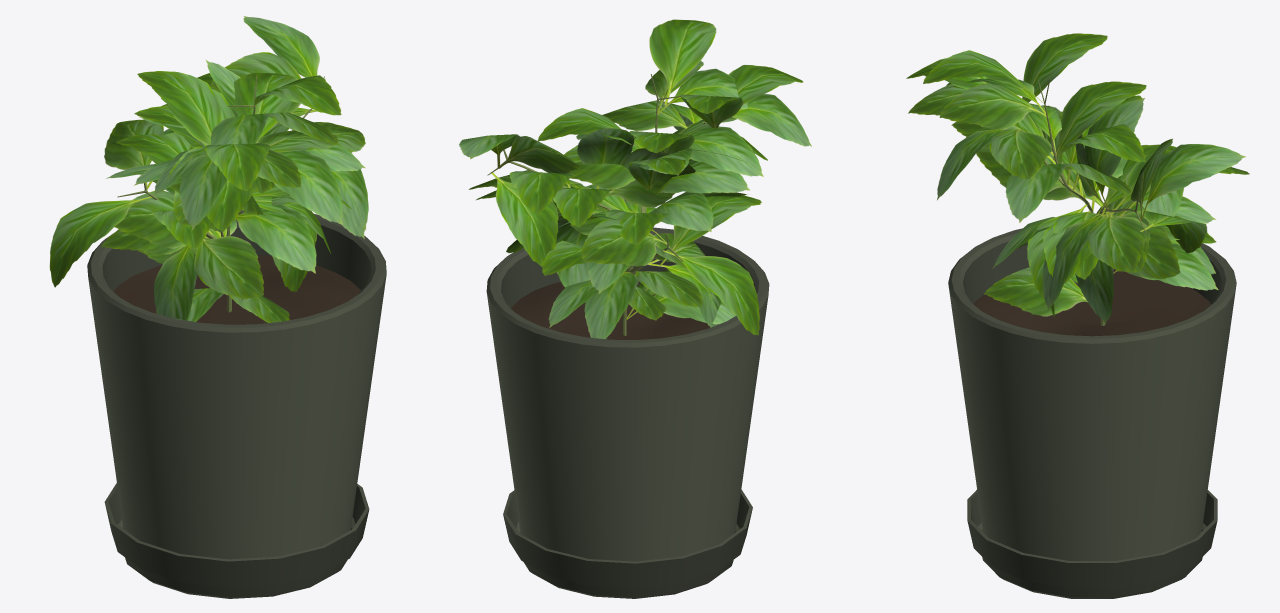
File: Basil Plant w_ Pot.glb
The picture shows the model from 3 angles, left to right: view 1: azimuth 30°, elevation 25°; view 2: azimuth 150°, elevation 25°; view 3: azimuth 270°, elevation 25°; orthographic projection. The views are drawn at different scales.
Visible parts, largest first — view 1: Basil Plant w/ Pot; view 2: Basil Plant w/ Pot; view 3: Basil Plant w/ Pot.
Boxes of the visible parts, x1,y1,x2,y2 form: Basil Plant w/ Pot: (49, 16, 386, 598); Basil Plant w/ Pot: (459, 19, 811, 598); Basil Plant w/ Pot: (906, 33, 1249, 598).
Size of the model in its own units: 0.1926 by 0.2855 by 0.2061.
Materials: 3 (2 with a texture image).
